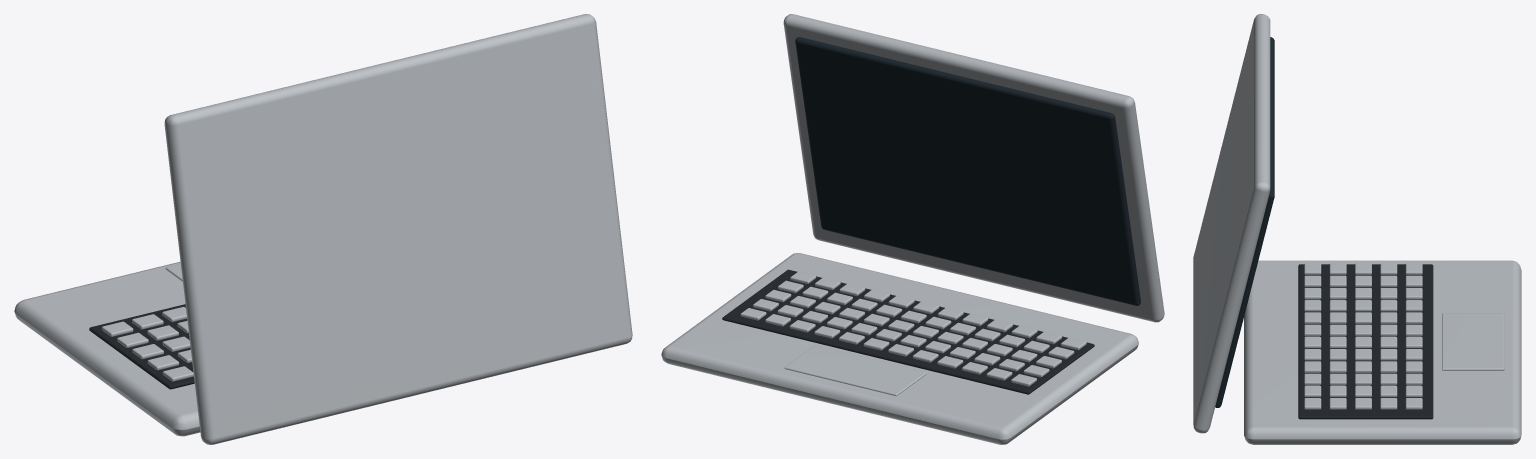
Rendered from hi3d-laptop_1.glb.
3 renders of one model, left to right at view 1: azimuth 30°, elevation 25°; view 2: azimuth 150°, elevation 25°; view 3: azimuth 270°, elevation 25°, orthographic. The views are drawn at different scales.
Parts seen in each view (by area): view 1: laptop_mesh; view 2: laptop_mesh; view 3: laptop_mesh.
Boxes of the visible parts, <box> form: laptop_mesh: <box>14,14,632,444</box>; laptop_mesh: <box>661,14,1164,444</box>; laptop_mesh: <box>1193,14,1521,444</box>.
Size of the model in its own units: 0.34 by 0.2407 by 0.2719.
